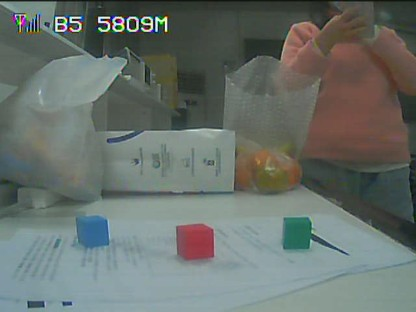b: (76, 216, 106, 245)
g: (284, 218, 308, 246)
r: (176, 225, 213, 257)
